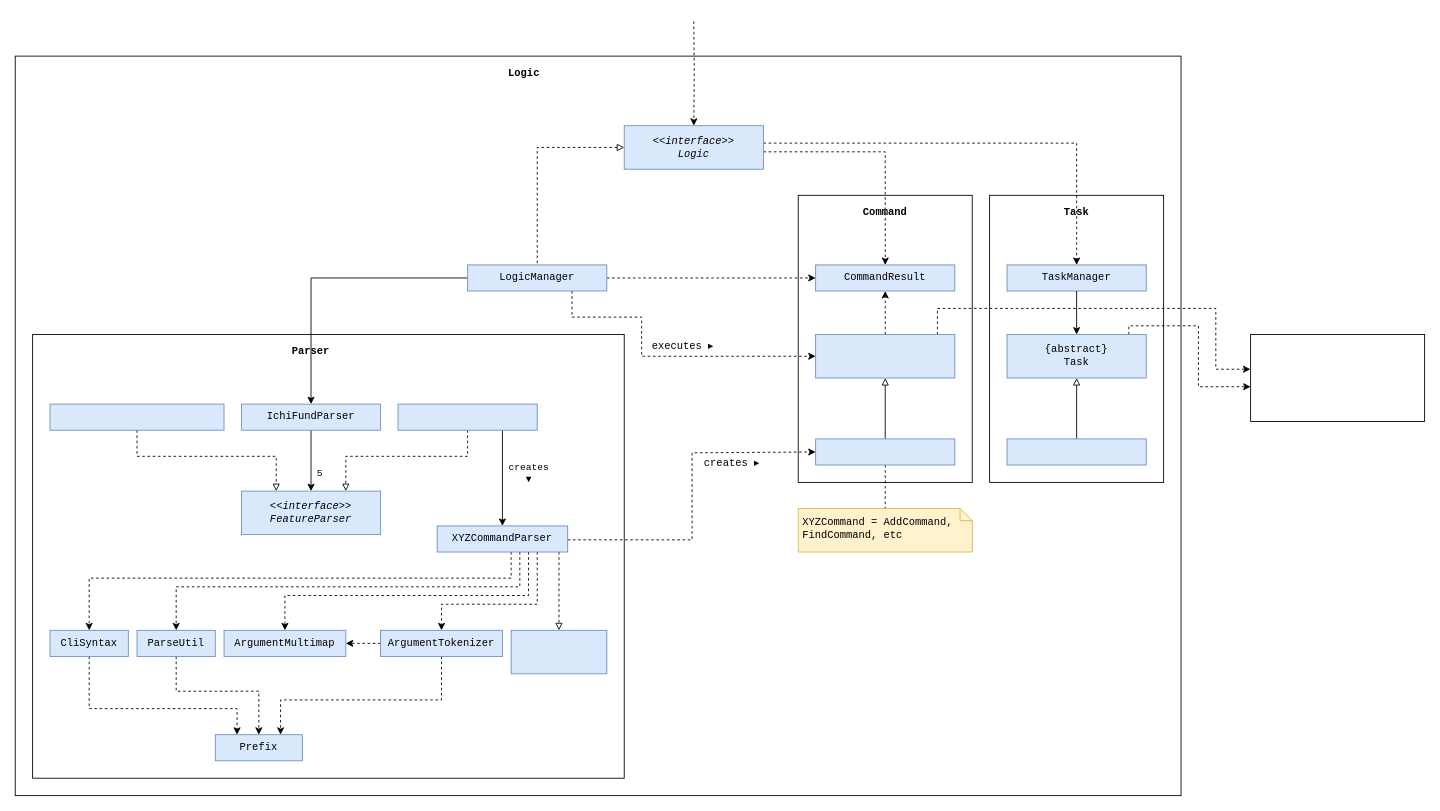
The diagram is 1440 pixels wide and 811 high, and some of its shapes have lost their labels. Here are the shapes that lost their labels. From the top down, the centre of each, then its label:
At [885,356]: "{abstract} Command".
At [1337,378]: "Model".
At [136,416]: "TransactionFeatureParser".
At [467,416]: "BudgetFeatureParser".
At [885,451]: "XYZCommand".
At [1076,451]: "XYZTask".
At [558,651]: "<<interface>> Parser".
